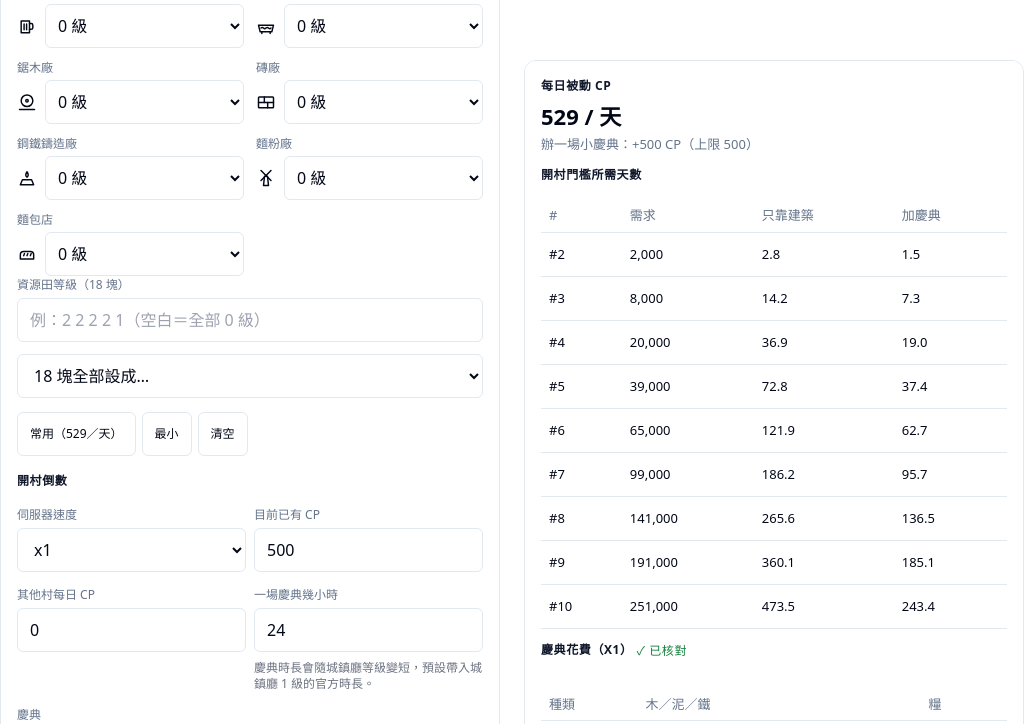
Test: 被動 CP：資源田、集結點、城牆等都要算 › page: field levels raise the daily CP; bad input → error under the field
(page scrolled)
Select "1 級" in the dropdown with test id "cp-fields-all" at point(250, 376), box x1=17 y1=354 x2=483 y2=398
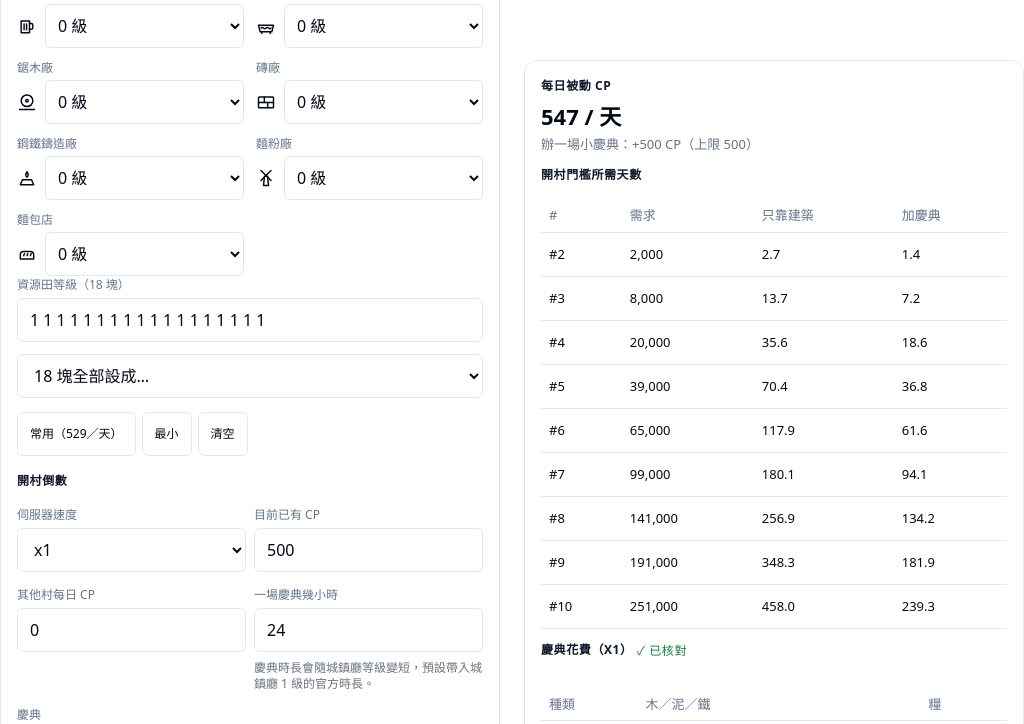
expect the text with test id "calc-result-primary" shows "547": met, box x1=541 y1=101 x2=579 y2=131
Replace the text in the field with test id "cp-fields" with "2 x" at point(250, 320), box x1=17 y1=298 x2=483 y2=342
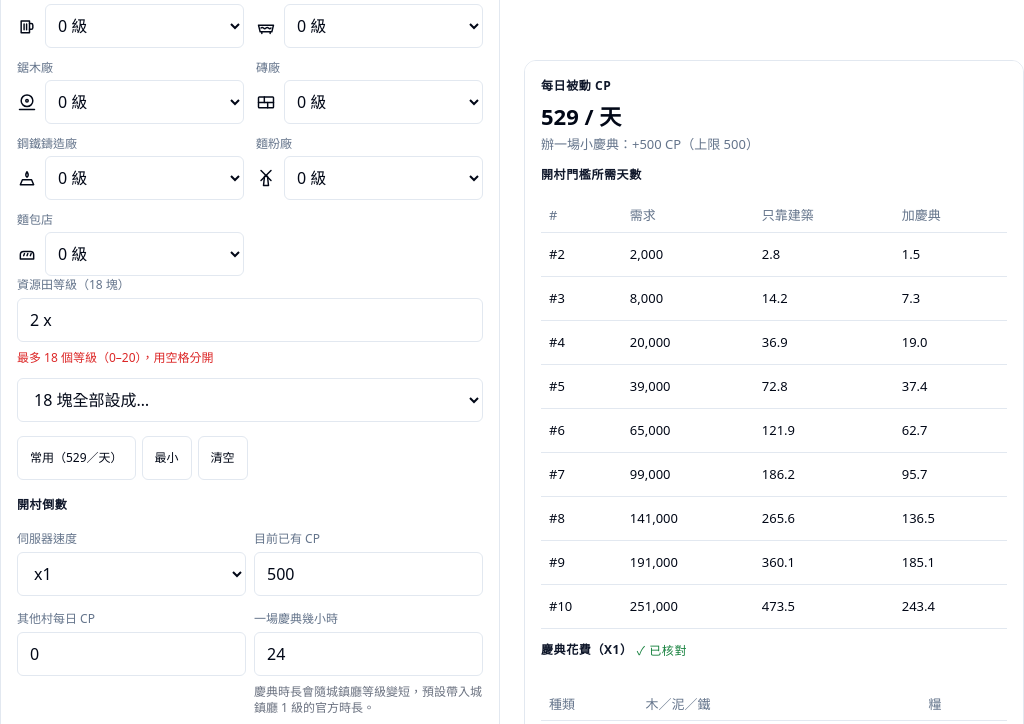
expect the message "最多 18 個等級（0–20），用空格分開" is shown: met, box x1=17 y1=349 x2=214 y2=366
Replace the text in the number field with test id "cp-hours" with "0" at point(368, 654), box x1=254 y1=632 x2=483 y2=676
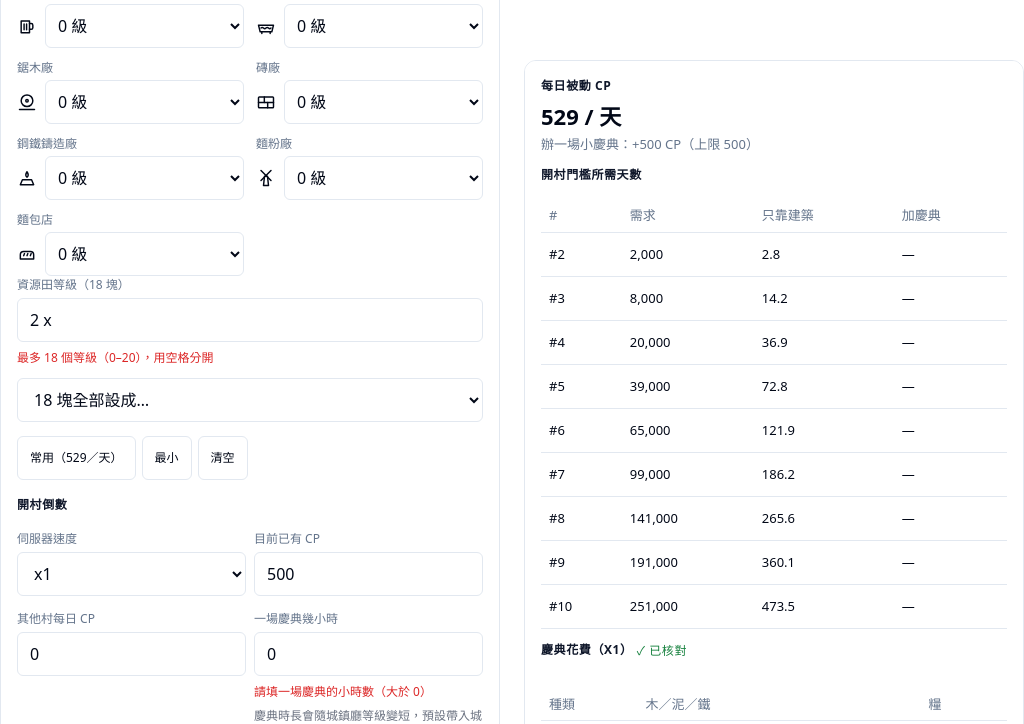
expect the message with test id "cp-hours-error" shows "大於 0": met, box x1=254 y1=683 x2=432 y2=700
